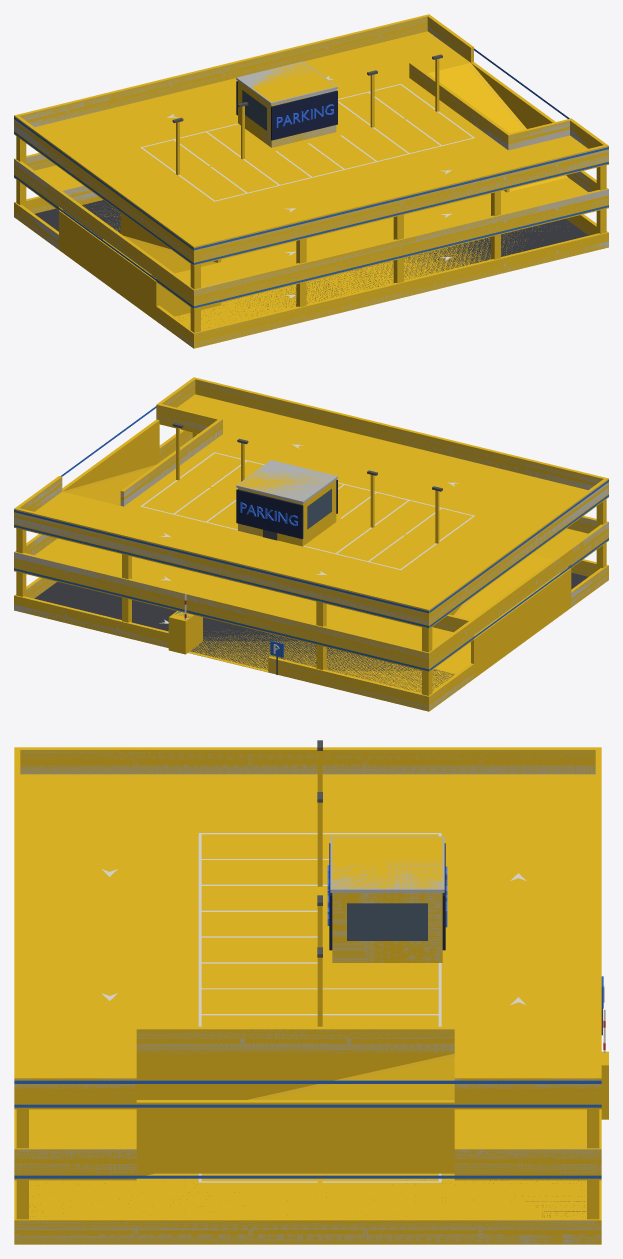
The model's file is lm_parking_garage.glb.
The picture shows the model from 3 angles, top to bottom: view 1: azimuth 30°, elevation 25°; view 2: azimuth 150°, elevation 25°; view 3: azimuth 270°, elevation 25°; orthographic projection. The views are drawn at different scales.
Visible parts, largest first — view 1: lm_parking_garage__col, lm_parking_garage__shell; view 2: lm_parking_garage__col, lm_parking_garage__shell; view 3: lm_parking_garage__col, lm_parking_garage__shell.
Part boxes in pixels (left/top/right/bottom): lm_parking_garage__col: left=14, top=14, right=608, bottom=348; lm_parking_garage__shell: left=14, top=17, right=608, bottom=348; lm_parking_garage__col: left=14, top=377, right=608, bottom=711; lm_parking_garage__shell: left=14, top=379, right=608, bottom=710; lm_parking_garage__col: left=14, top=747, right=608, bottom=1244; lm_parking_garage__shell: left=14, top=740, right=608, bottom=1244.
Bounding box in the file's own units: 32.02 × 10.45 × 24.31.
Materials: 3 (1 with a texture image).
